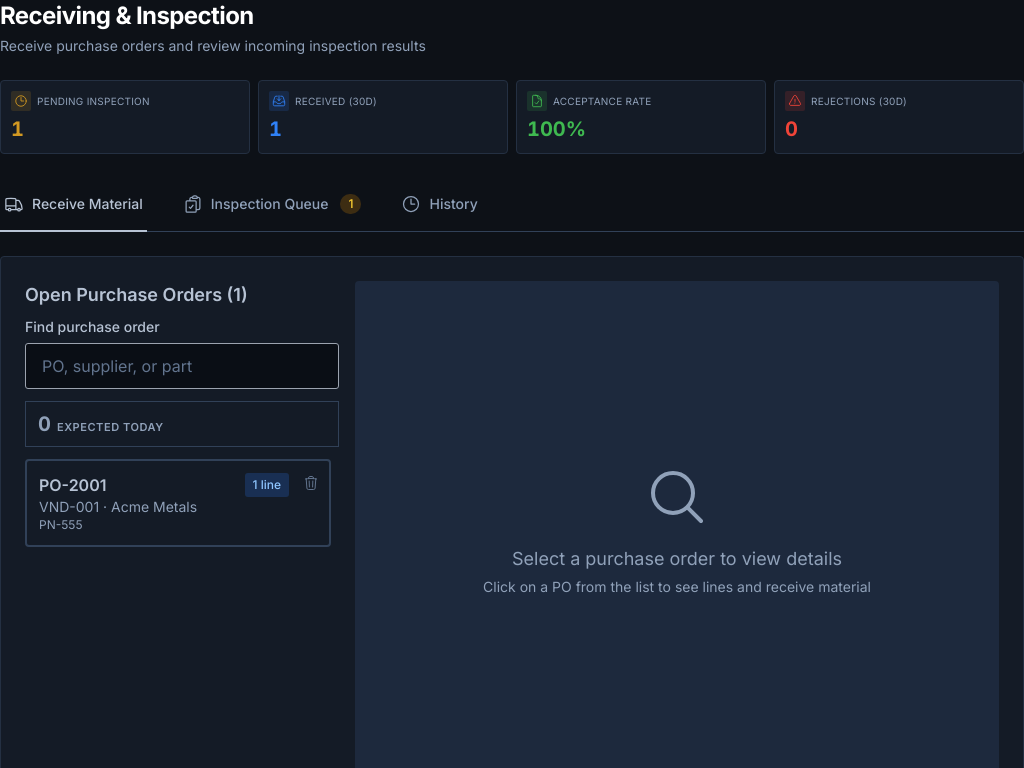
Test: Receiving — receive form default › still starts UNCHECKED for a part-master-flagged part, but shows the advisory hint
Click the button "PO-2001 VND-001 · Acme Metals PN-555 1 line".
click(178, 503)  # box x1=25 y1=459 x2=331 y2=547
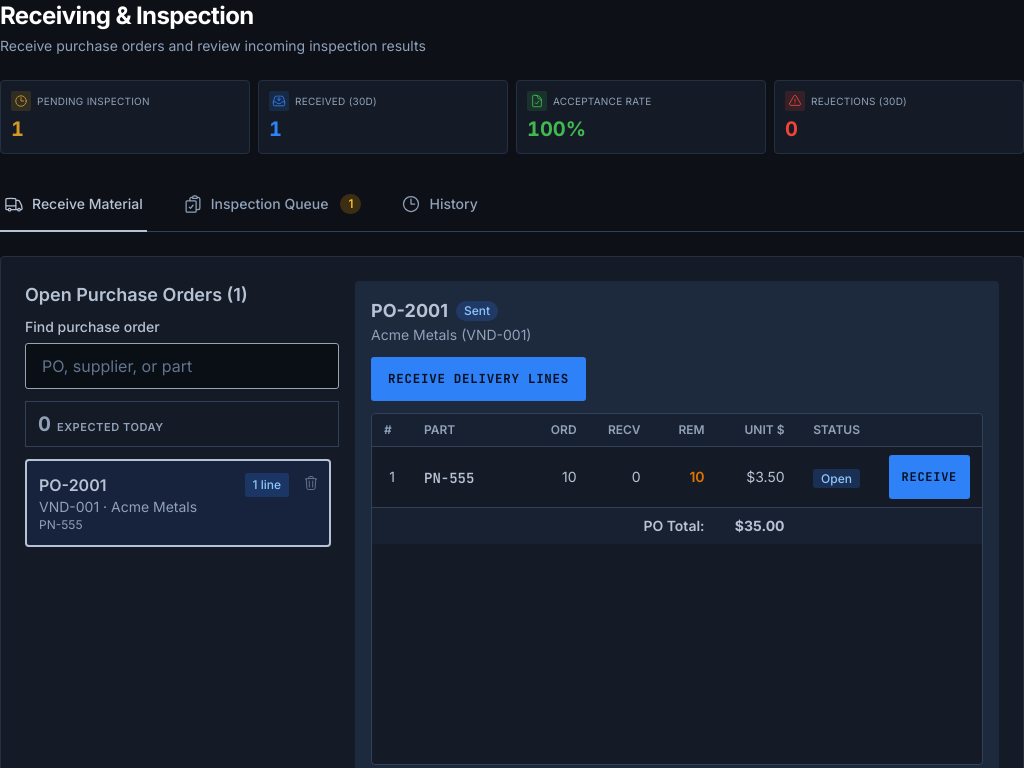
Click the button "Receive".
click(929, 477)  # box x1=888 y1=455 x2=970 y2=499
(page scrolled)
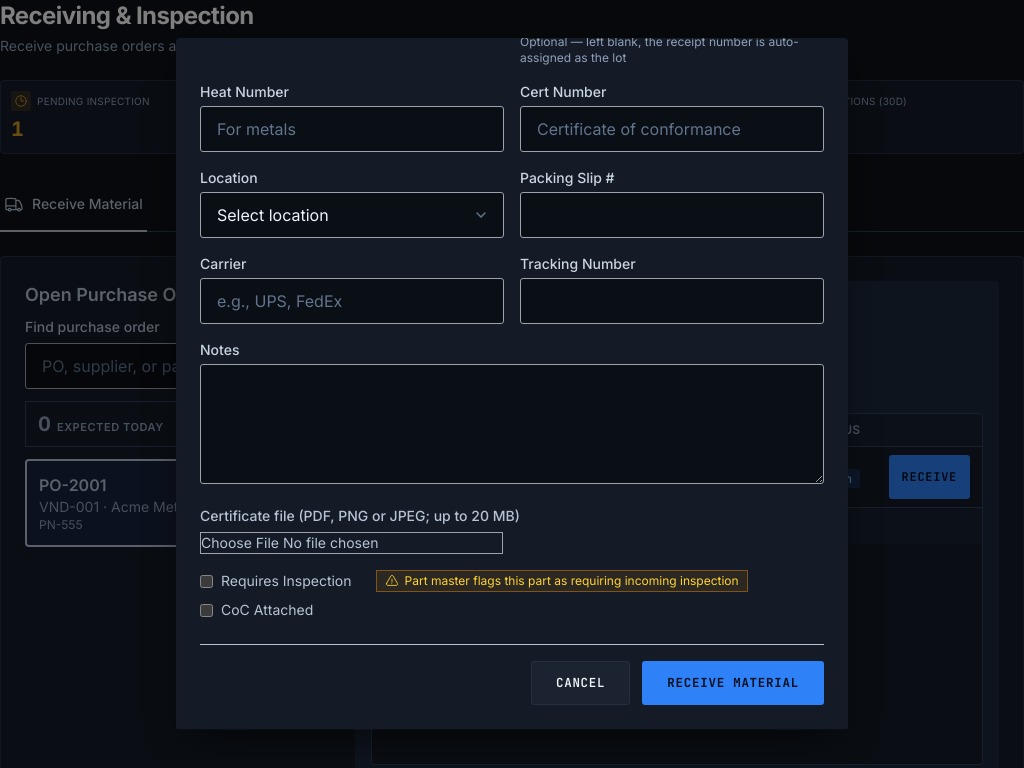
expect the checkbox labelled "Requires Inspection" is not checked: met, box x1=200 y1=575 x2=213 y2=588
expect the text "Part master flags this part as requiring incoming inspection" is shown: met, box x1=376 y1=570 x2=748 y2=592
